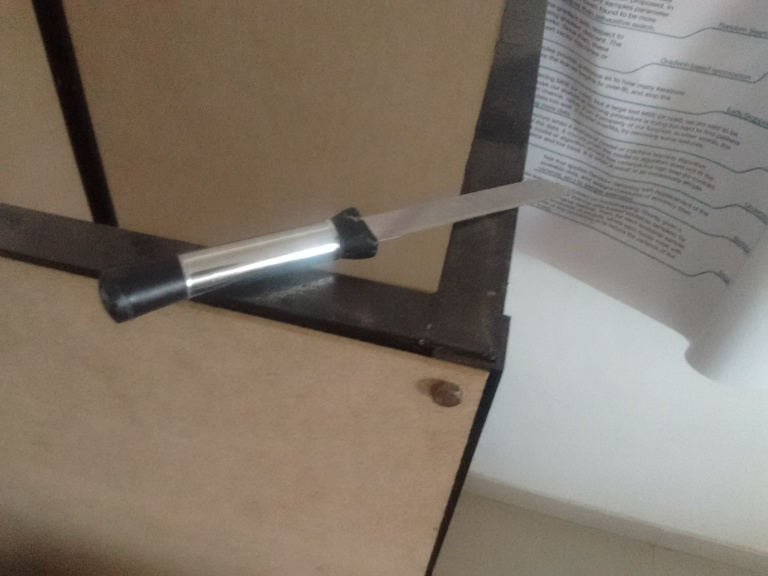knife: (90, 178, 571, 325)
